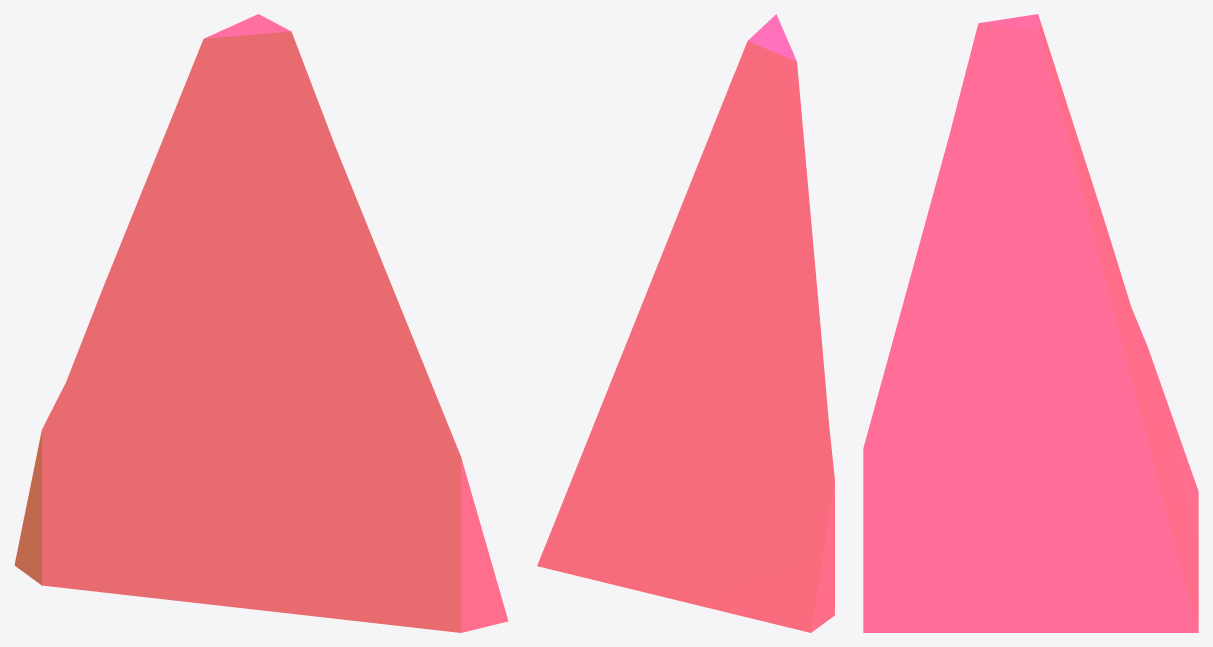
3 views of the same model, side by side, from view 1: azimuth 30°, elevation 25°; view 2: azimuth 150°, elevation 25°; view 3: azimuth 270°, elevation 25° (orthographic). The views are drawn at different scales.
Visible parts, largest first — view 1: polySurface3; view 2: polySurface3; view 3: polySurface3.
Boxes of the visible parts, x1,y1,x2,y2 form: polySurface3: (14, 14, 508, 632); polySurface3: (537, 14, 834, 632); polySurface3: (863, 14, 1198, 632).
Bounding box in the file's own units: 5 × 8.88 × 5.
